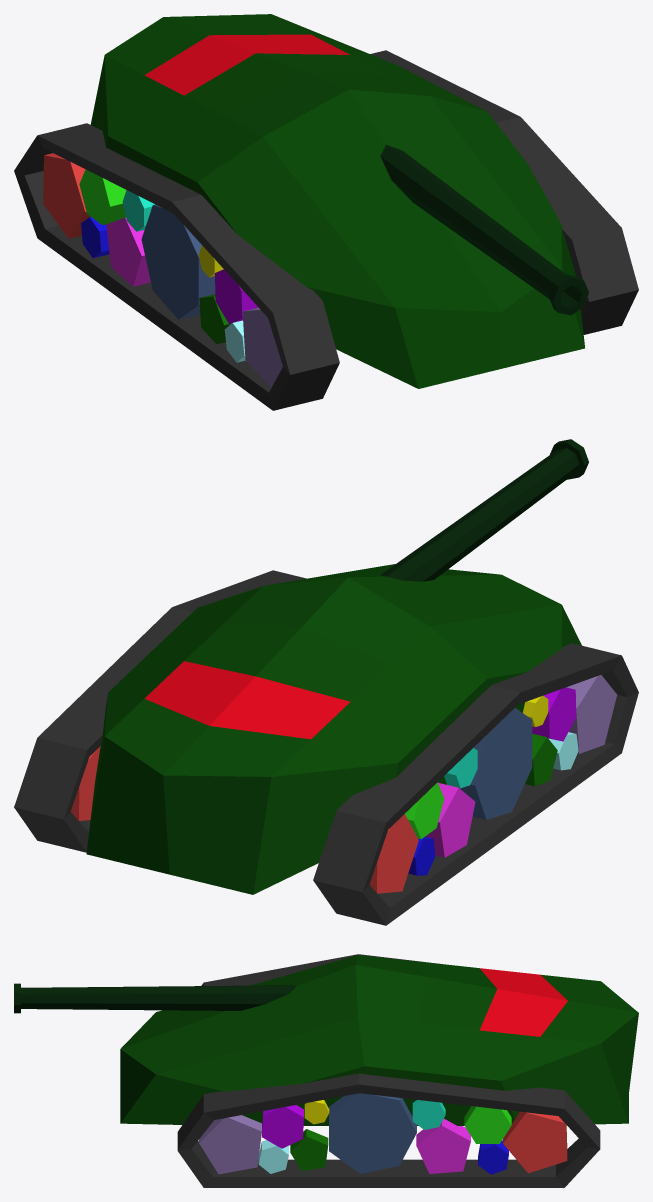
File: tank_p2.fbx
3 renders of one model, top to bottom at view 1: azimuth 30°, elevation 25°; view 2: azimuth 150°, elevation 25°; view 3: azimuth 270°, elevation 25°, orthographic. The views are drawn at different scales.
Parts seen in each view (by area): view 1: Plane, Circle.015, Circle.006, Plane.002; view 2: Plane, Circle.015, Plane.002, Circle.006; view 3: Plane, Circle.015, Circle.006, Plane.002.
Part boxes in pixels (<box>): Plane: <box>90,14,584,388</box>; Circle.015: <box>14,50,638,410</box>; Circle.006: <box>380,144,588,315</box>; Plane.002: <box>145,34,349,95</box>; Plane: <box>86,564,581,894</box>; Circle.015: <box>14,570,638,925</box>; Plane.002: <box>144,661,350,739</box>; Circle.006: <box>380,439,588,581</box>; Plane: <box>120,955,638,1125</box>; Circle.015: <box>177,954,600,1187</box>; Circle.006: <box>14,983,296,1013</box>; Plane.002: <box>480,968,567,1036</box>.
Bounding box in the file's own units: 196 × 110 × 396.
